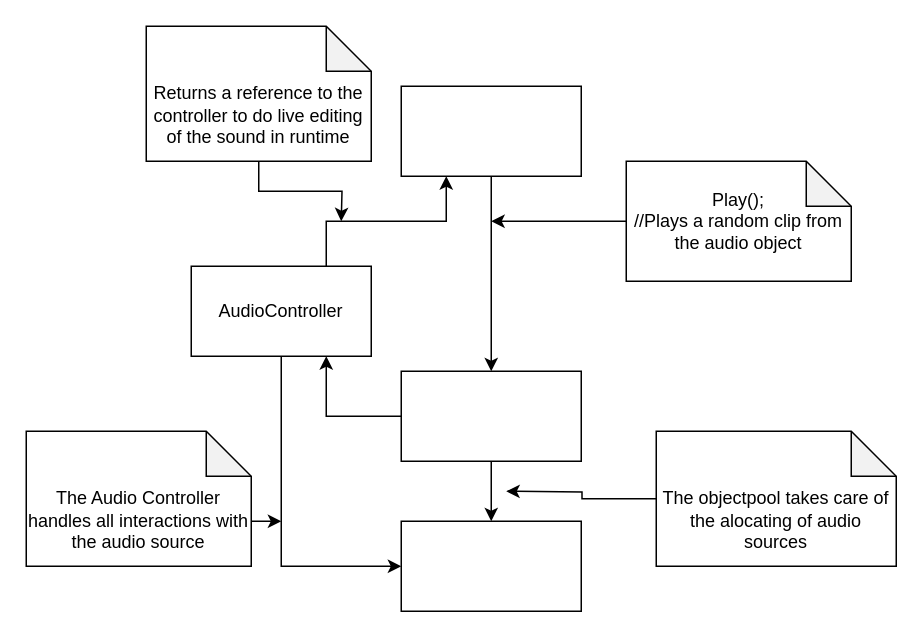
Image size: 923x638. Some labels were removed from this diagram. The centre of each missing label's shape, as x and y in pixels:
"AudioObject" goes at point (490, 130).
"AudioSource" goes at point (490, 565).
"ObjectPool" goes at point (490, 415).
